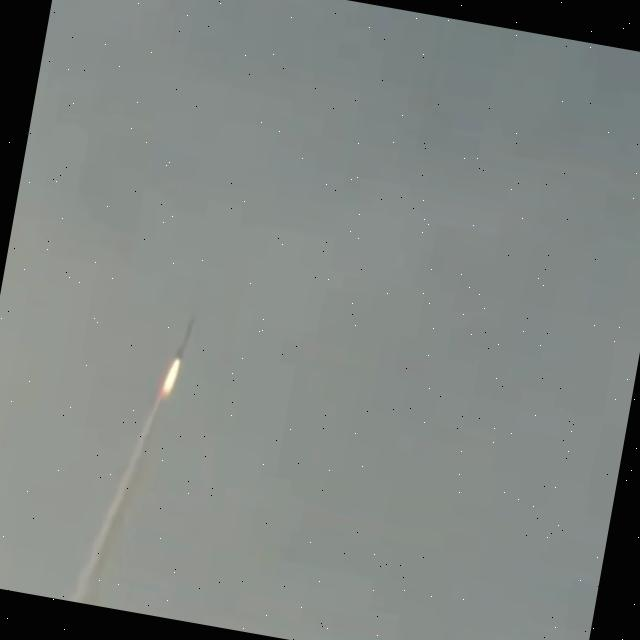smoke_trail_with_rocket: (69, 317, 194, 604)
